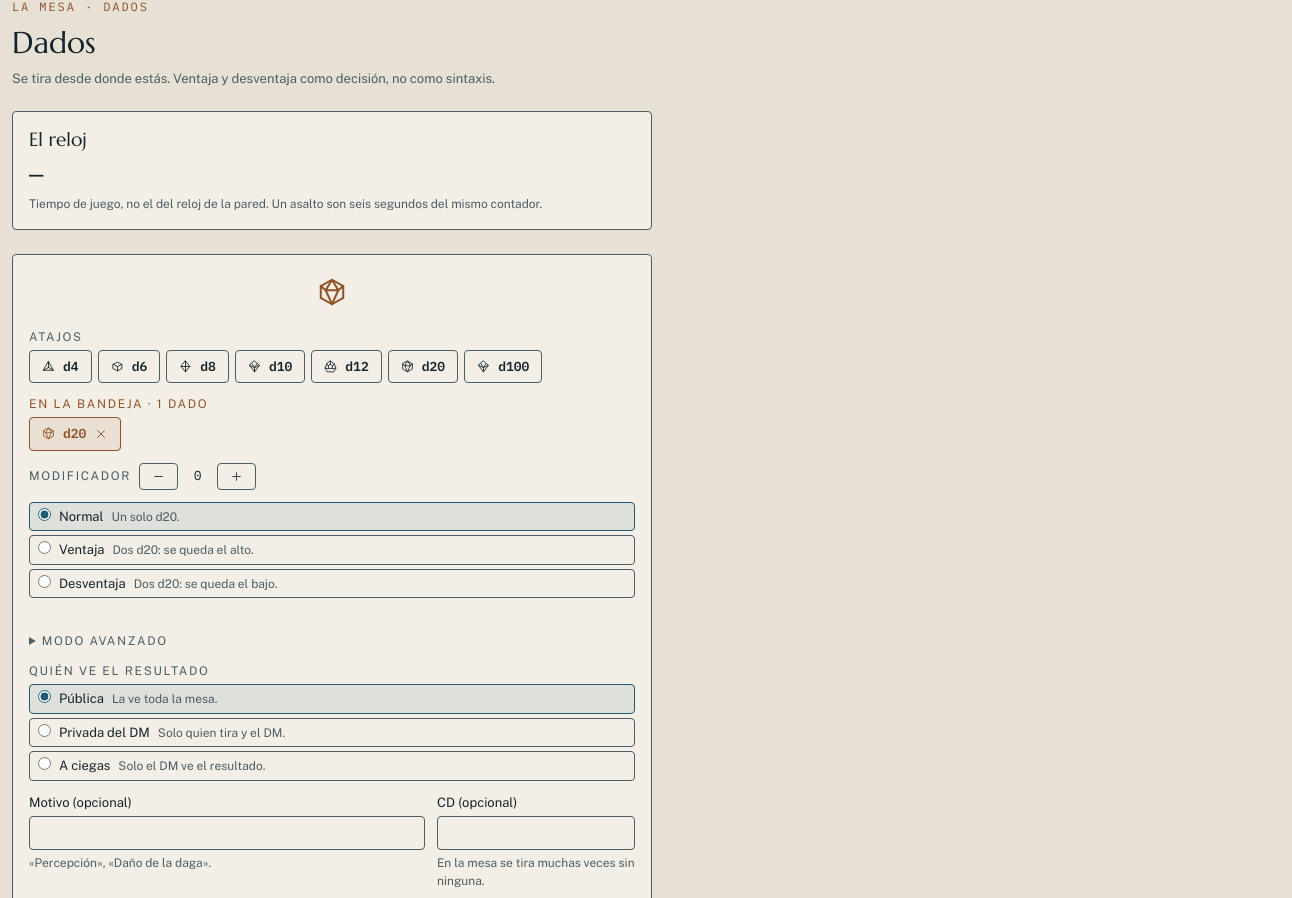
Test: PanelDeDados — tirar › Round 2 — escribir una expresión inválida no desmonta el radio de ventaja ni «Tirar»
The image size is (1292, 898).
Click the heading "Modo avanzado": click(105, 641) [42, 634, 168, 648]
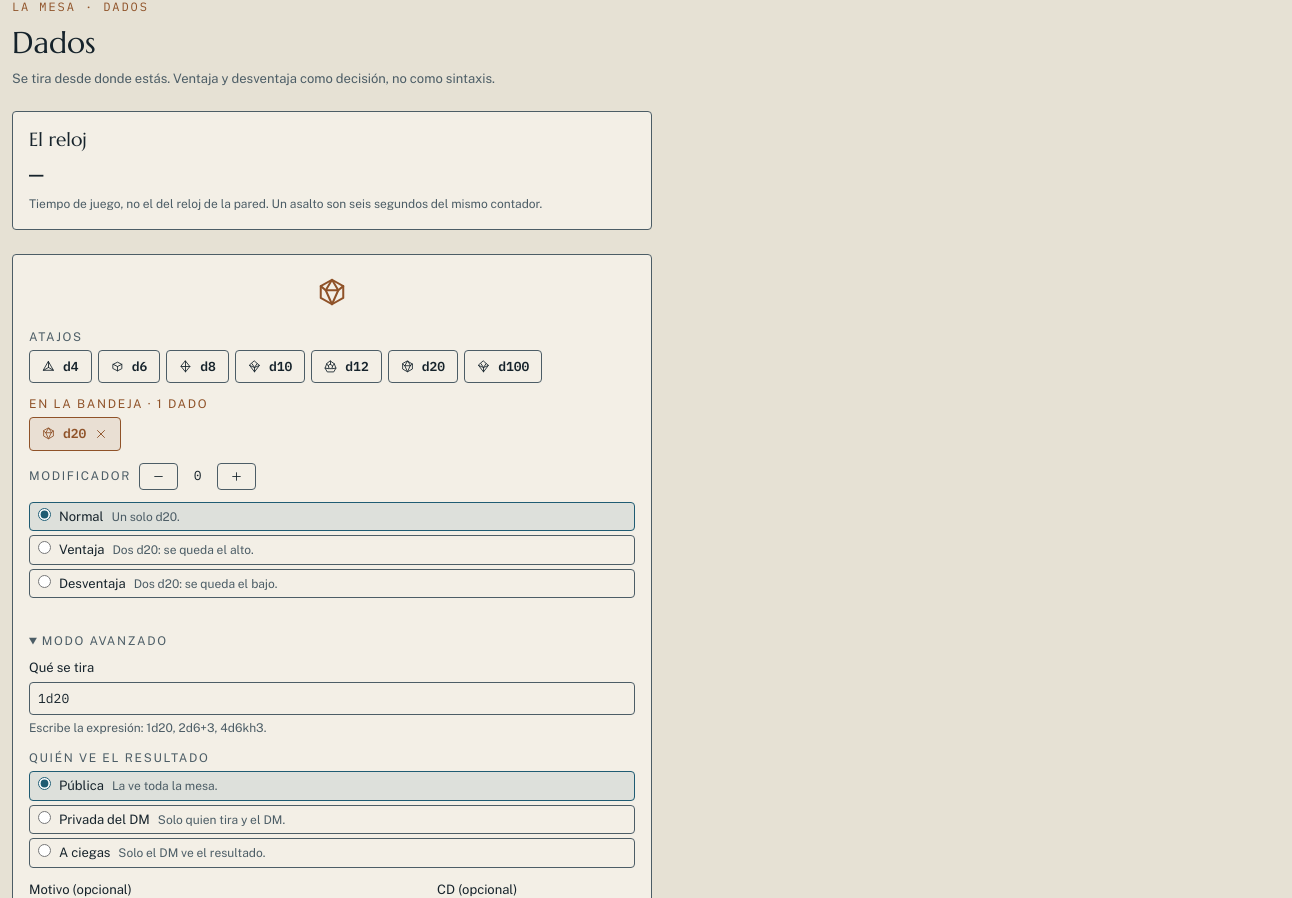
Check: the element named "cómo tirar" is shown, box [29, 502, 635, 598]
Check: the radio button labelled "Normal" is enabled, box [38, 508, 51, 521]
Replace the text in the field labelled "Qué se tira" with "4d": (332, 698) [29, 682, 635, 715]
(page scrolled)
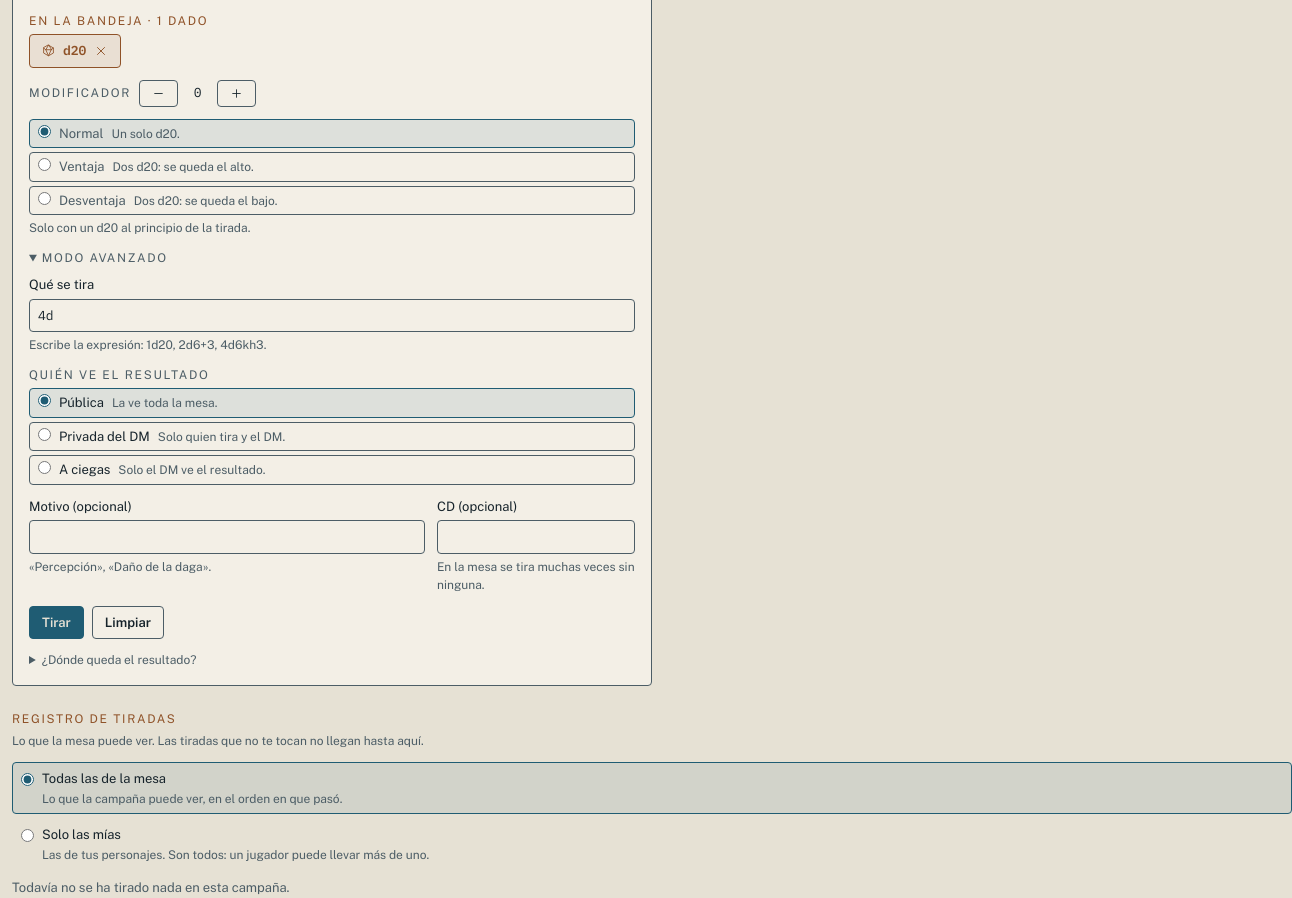
Check: the element named "cómo tirar" is shown, box [29, 119, 635, 215]
Check: the text "Solo con un d20 al principio de la tirada." is shown, box [29, 221, 250, 235]
